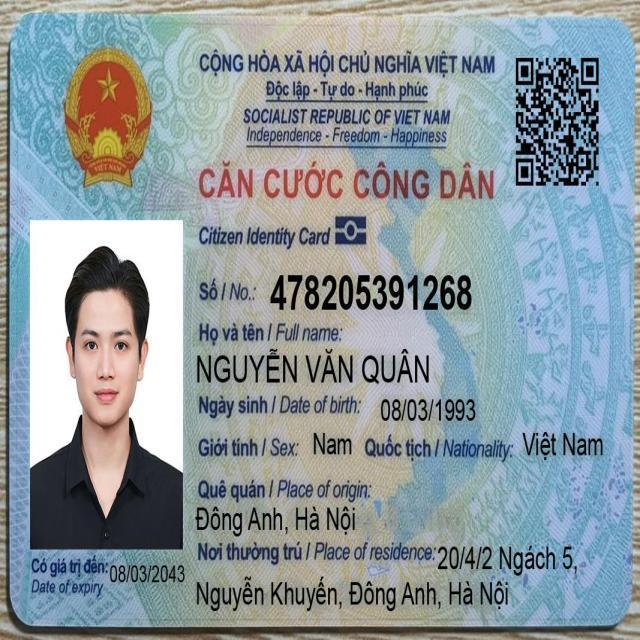current_place: (194, 572, 511, 617), (435, 540, 580, 578)
dob: (378, 395, 478, 426)
expire_date: (108, 562, 187, 585)
gender: (311, 428, 354, 460)
id: (268, 269, 474, 315)
name: (194, 345, 433, 390)
nationality: (520, 428, 604, 463)
origin_place: (193, 502, 359, 540)
